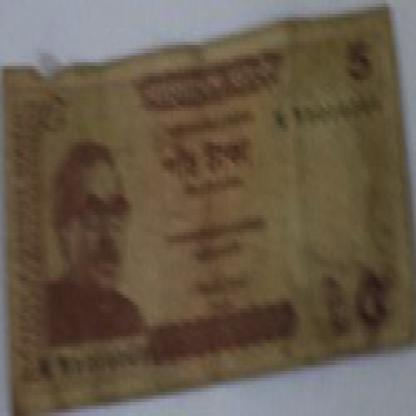Five Taka: (156, 132, 256, 180), (353, 260, 389, 343), (343, 31, 376, 87), (208, 177, 210, 184), (196, 184, 198, 187)
